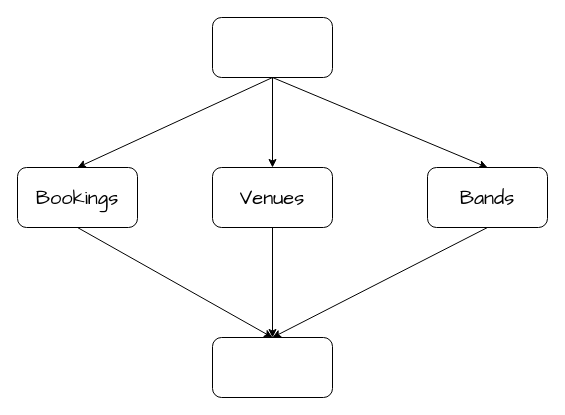
Some shapes in this 565 by 415 pixel diagram are drawn without their labels. The shapes that lost their labels are listed below. From the top down, each one's centre as x and y in pixels, then its label:
At point 272,47: "Main".
At point 272,367: "Database".
